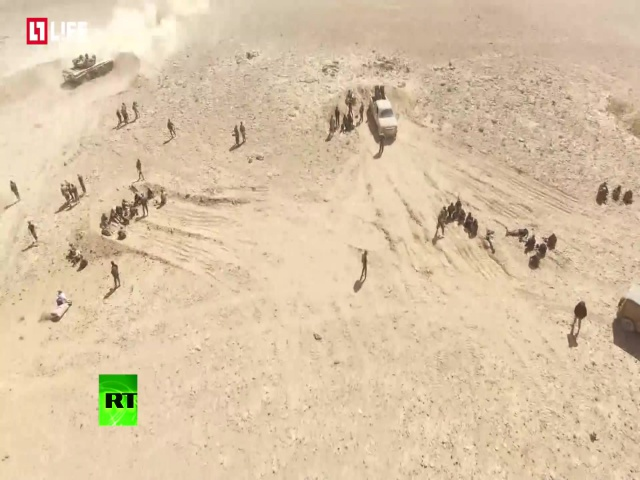person: (570, 298, 587, 335), (358, 248, 370, 287), (108, 258, 121, 291), (134, 156, 147, 183), (26, 220, 40, 244), (9, 178, 22, 203), (435, 209, 445, 240), (76, 172, 88, 194), (139, 192, 149, 217), (166, 118, 177, 140), (58, 181, 70, 201), (112, 108, 123, 129), (70, 183, 81, 203), (158, 188, 168, 208), (378, 130, 385, 158), (232, 124, 240, 147), (357, 101, 365, 124), (131, 100, 140, 120), (328, 114, 335, 138), (333, 105, 340, 129), (240, 120, 247, 142)
vehicle: (60, 50, 116, 86), (366, 85, 400, 141)
